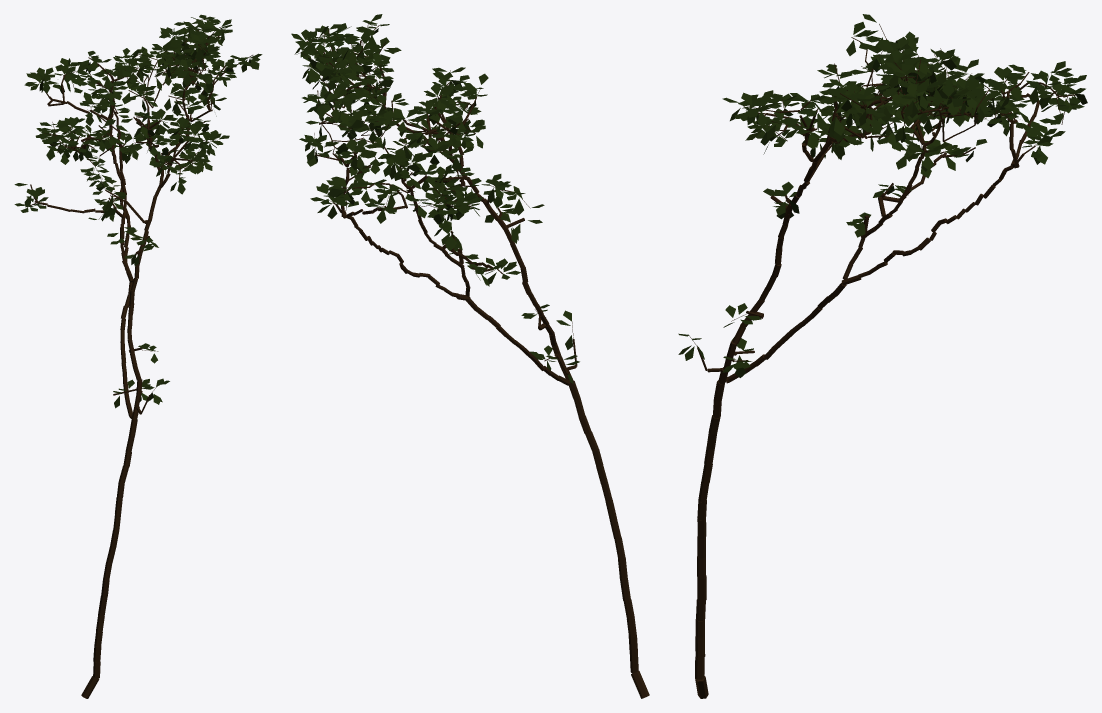
Rendered from 2022_tree_283.obj.
3 renders of one model, left to right at view 1: azimuth 30°, elevation 25°; view 2: azimuth 150°, elevation 25°; view 3: azimuth 270°, elevation 25°, orthographic. The views are drawn at different scales.
Parts seen in each view (by area): view 1: Leaves, TrunkAndBranches; view 2: Leaves, TrunkAndBranches; view 3: Leaves, TrunkAndBranches.
Part boxes in pixels (x1,y1,x2,y2): Leaves: [14, 14, 262, 408]; TrunkAndBranches: [27, 19, 252, 698]; Leaves: [291, 14, 579, 383]; TrunkAndBranches: [299, 23, 649, 698]; Leaves: [678, 14, 1087, 377]; TrunkAndBranches: [689, 24, 1075, 698].
Bounding box in the file's own units: 5.33 × 13.01 × 6.1.
